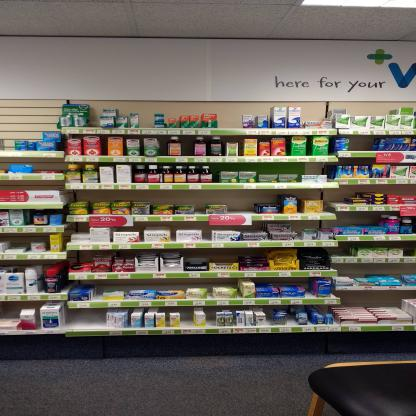Void: (69, 190, 224, 202), (340, 290, 400, 308), (101, 280, 231, 288), (345, 262, 411, 275), (258, 164, 326, 176), (70, 306, 100, 328), (0, 181, 61, 191), (336, 212, 378, 226), (230, 190, 251, 214), (304, 108, 330, 122), (2, 303, 17, 326), (9, 233, 27, 249), (220, 114, 243, 126), (353, 138, 372, 150), (140, 114, 152, 127)
